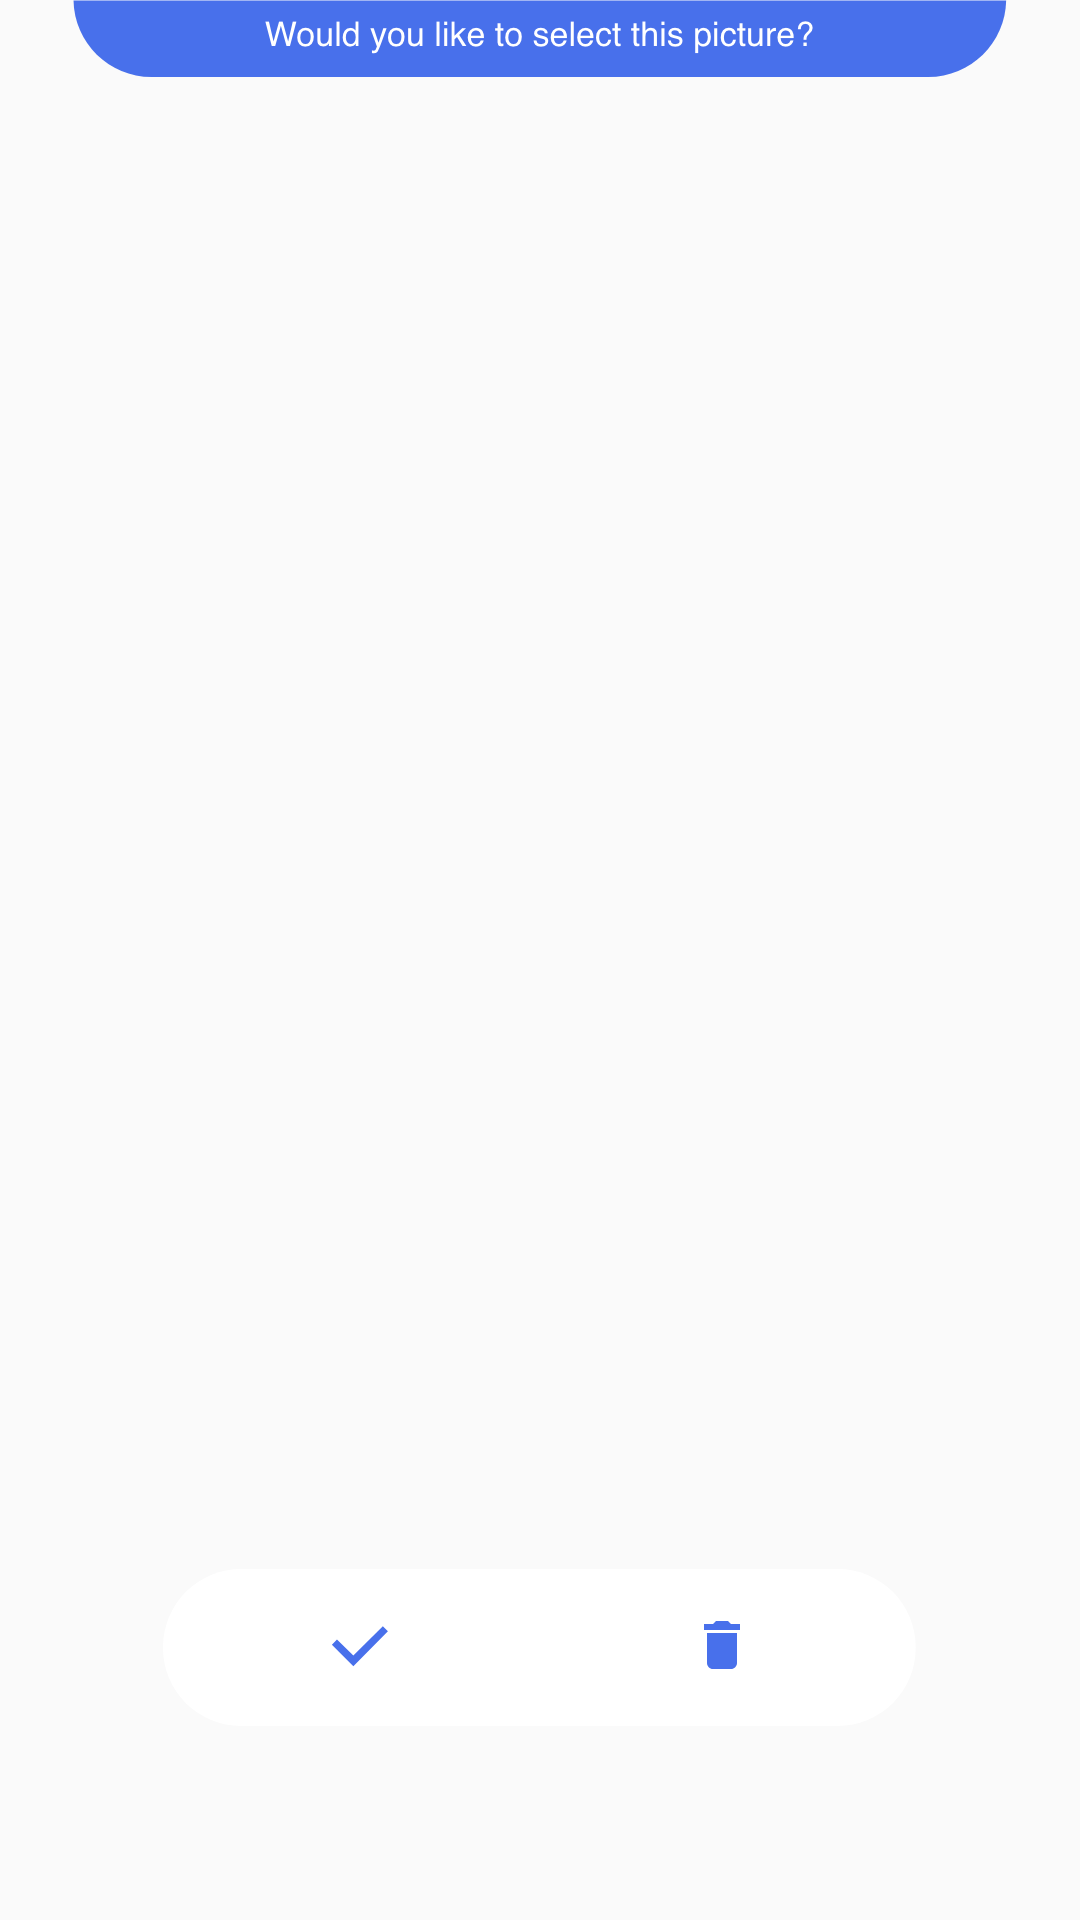

Screen size 1080 x 1920. Icon name, then its box in pixels as (x1, y1, x2, y2):
check: (332, 1626, 388, 1666)
delete: (704, 1621, 740, 1669)
